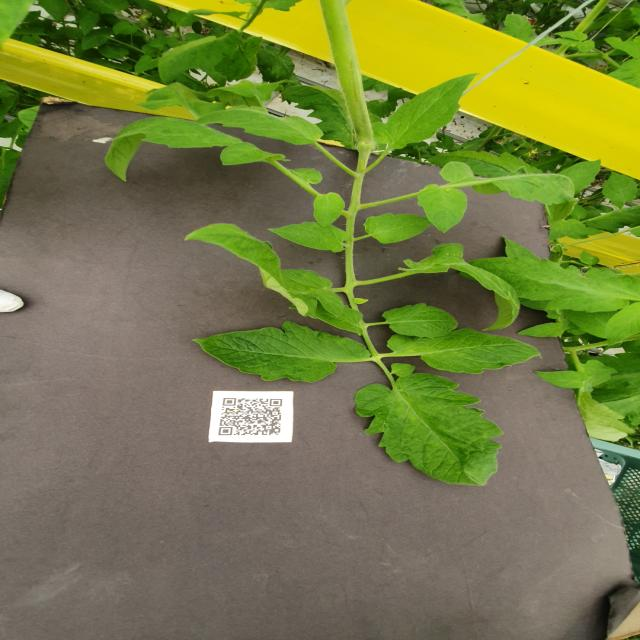Healthy Leaf: (354, 372, 506, 487), (184, 221, 344, 319), (102, 115, 287, 183), (190, 319, 371, 382), (396, 242, 521, 332), (465, 256, 640, 312), (375, 73, 480, 156), (387, 326, 543, 374), (198, 104, 323, 146), (283, 84, 354, 148), (265, 221, 352, 253), (382, 302, 458, 338), (416, 184, 470, 234), (363, 211, 430, 244), (556, 158, 602, 194), (604, 301, 640, 346), (602, 170, 638, 207), (312, 191, 346, 229), (514, 322, 564, 338)
